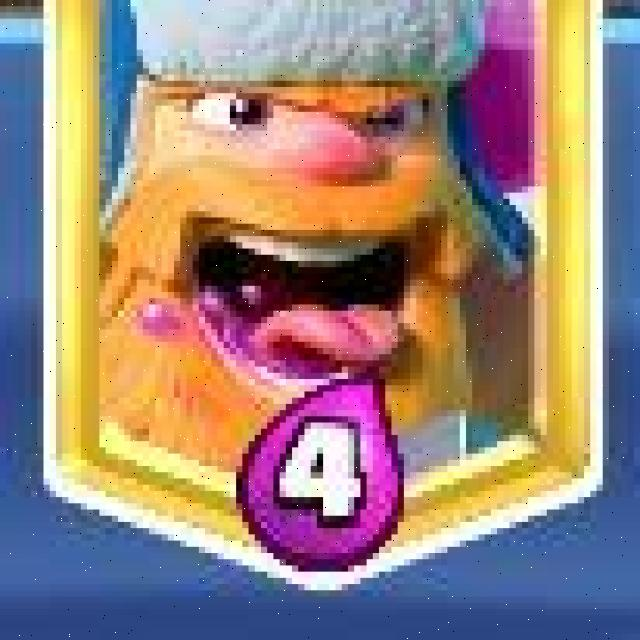Lumberjack: (38, 0, 604, 588)
